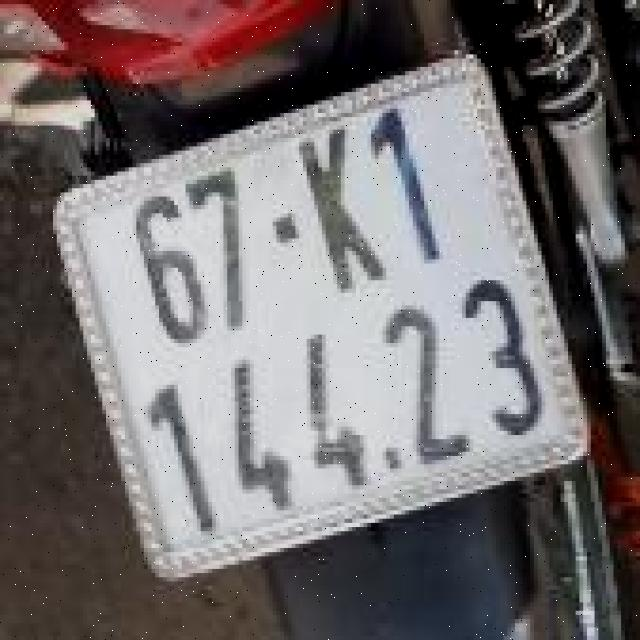1: (346, 91, 458, 271), (134, 371, 234, 546)
2: (366, 284, 484, 478)
3: (442, 264, 557, 446)
4: (277, 311, 386, 500), (203, 338, 308, 520)
6: (122, 180, 218, 353)
7: (180, 164, 267, 338)
K: (282, 115, 400, 302)
